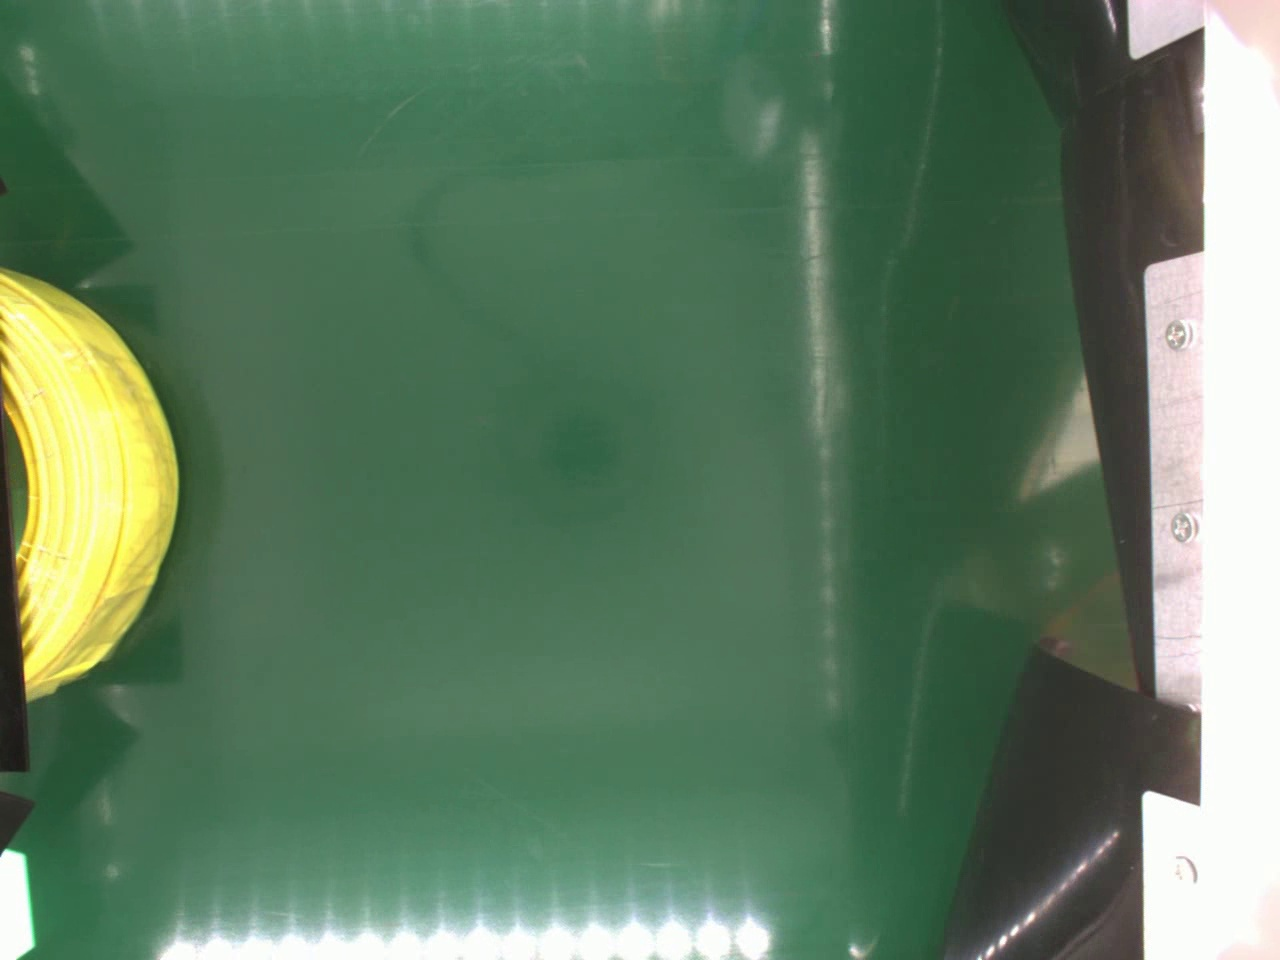yellow: (0, 268, 175, 701)
